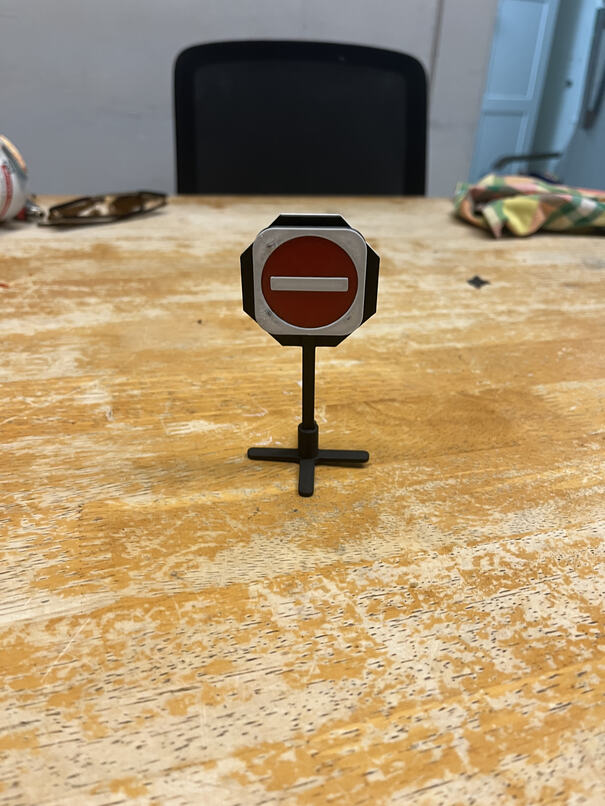sign_noentry: (248, 217, 371, 340)
